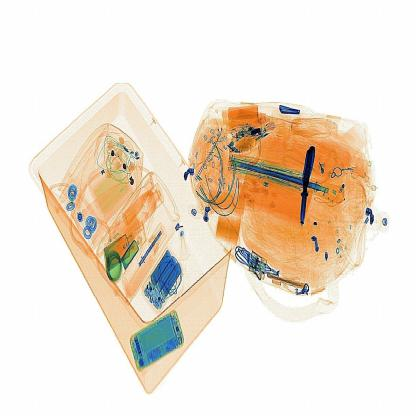gun: (288, 122, 318, 244)
